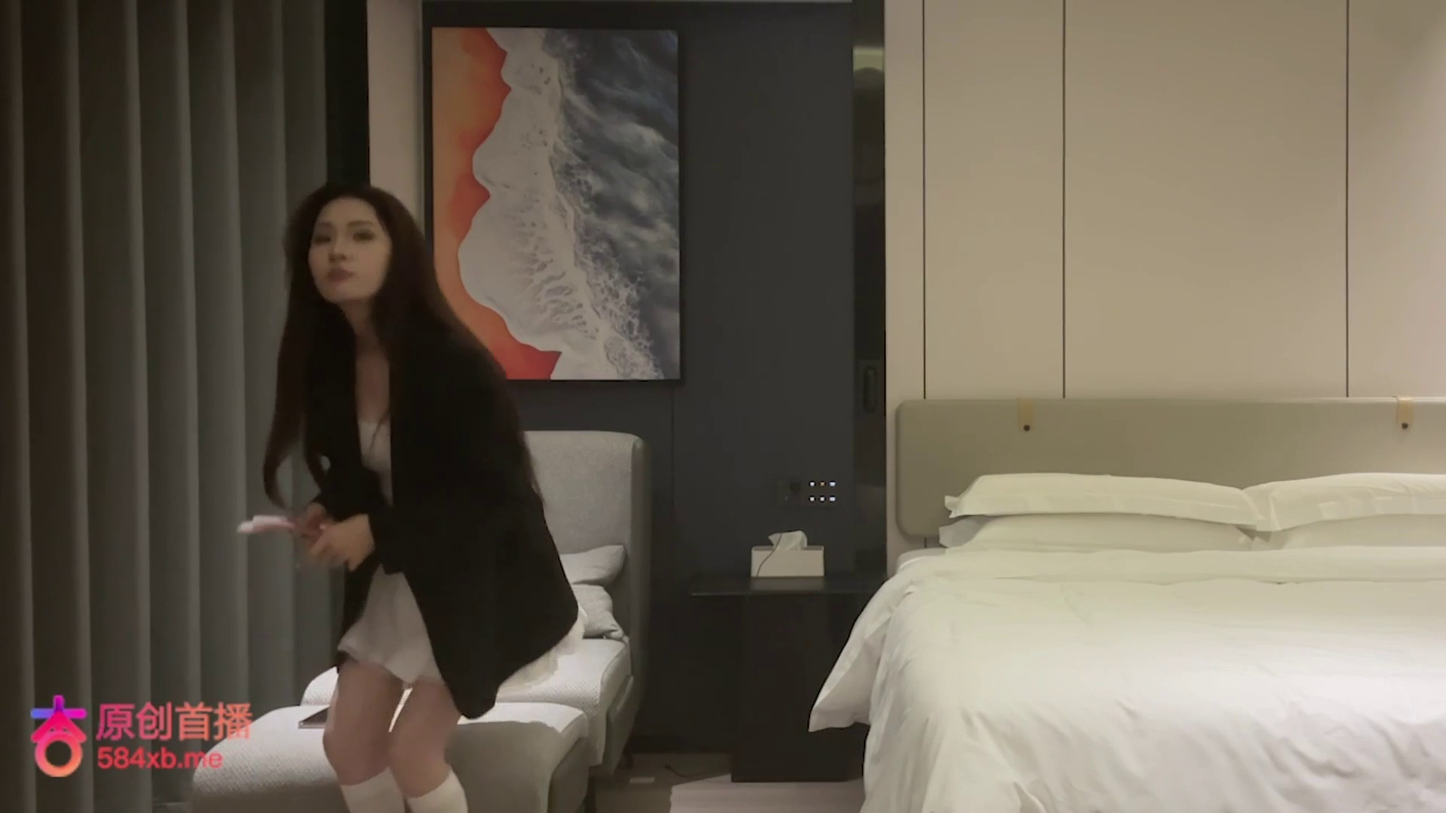squat: (250, 180, 580, 808)
